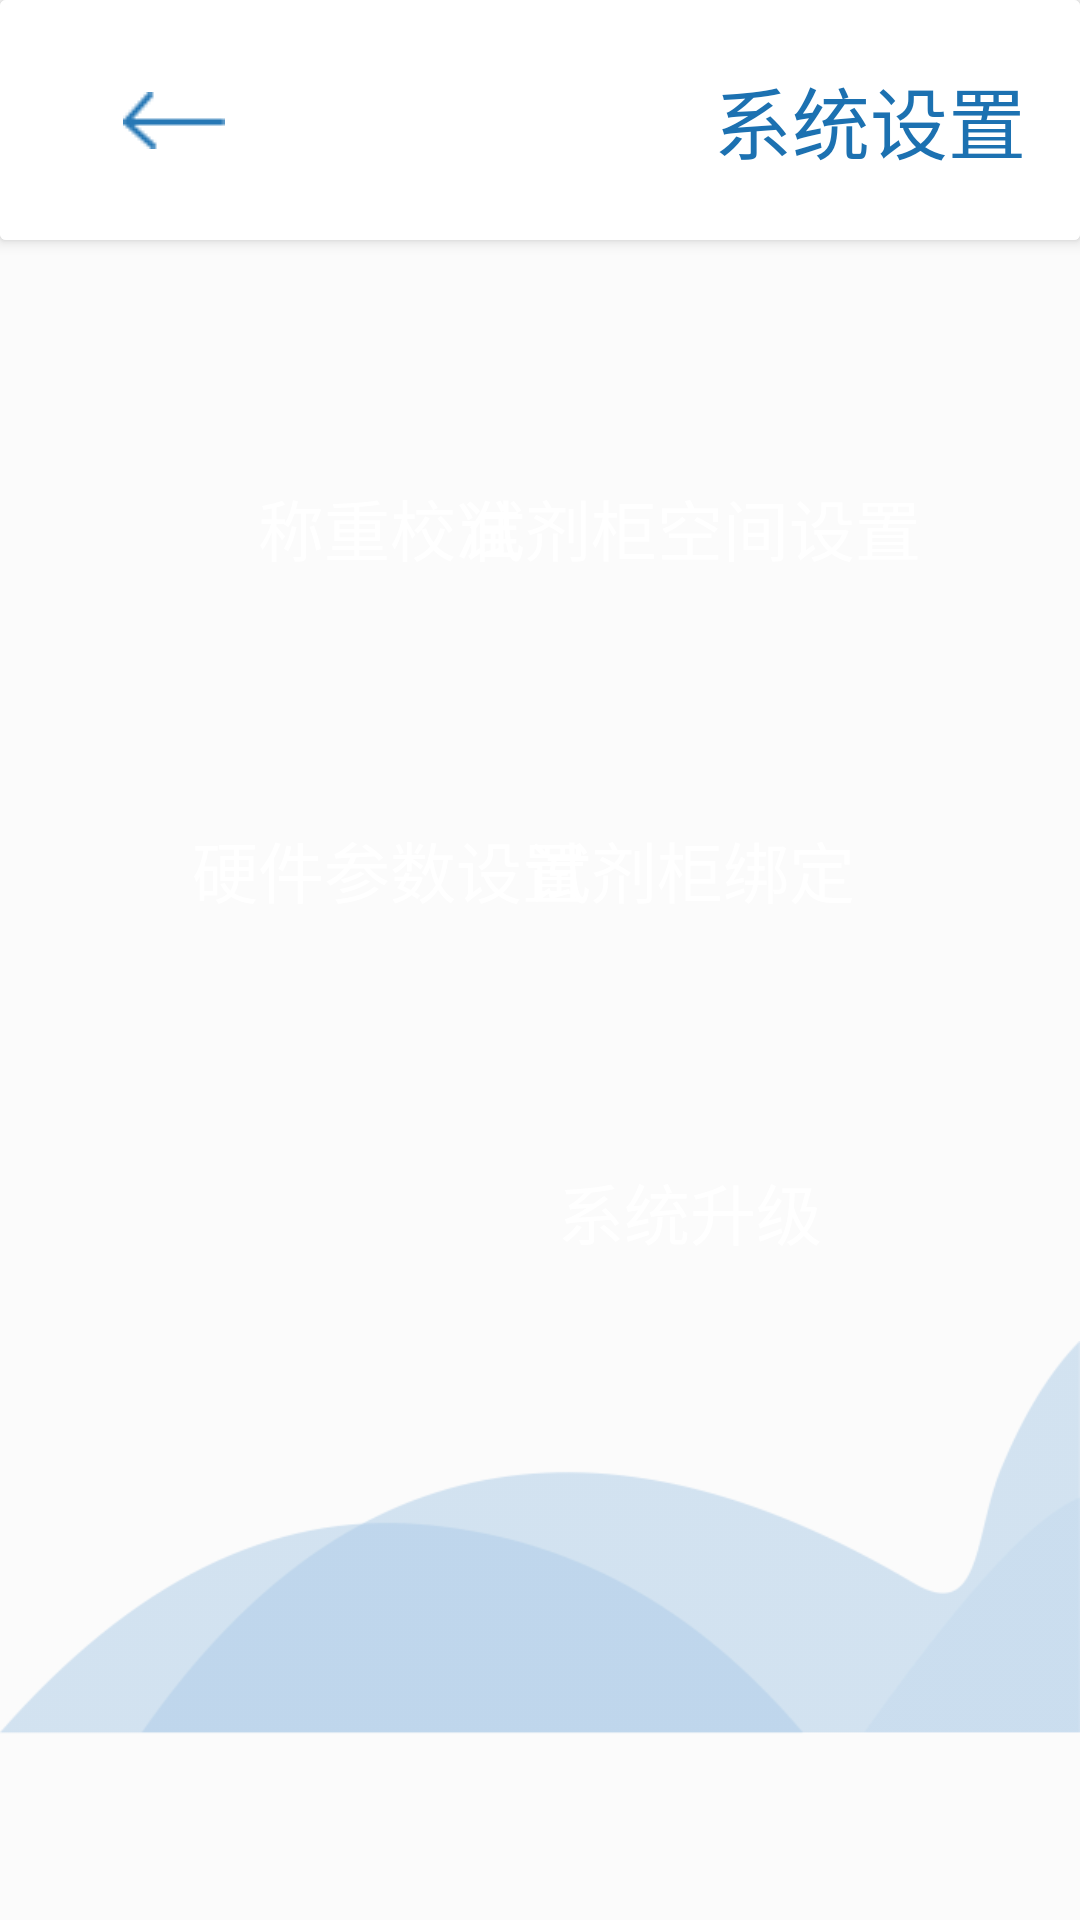

Where to tap for icons on this 1080×1920 app screen, as (x=x, y=y):
back style: (x=174, y=120)
